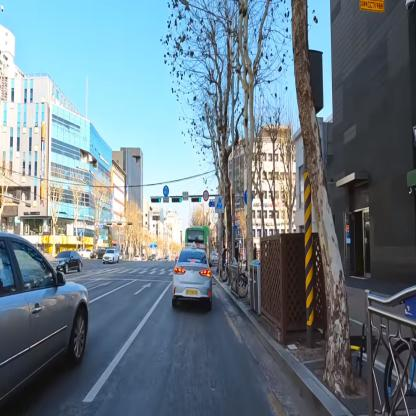Green: (172, 196, 182, 204), (192, 196, 202, 204), (152, 198, 161, 202)
